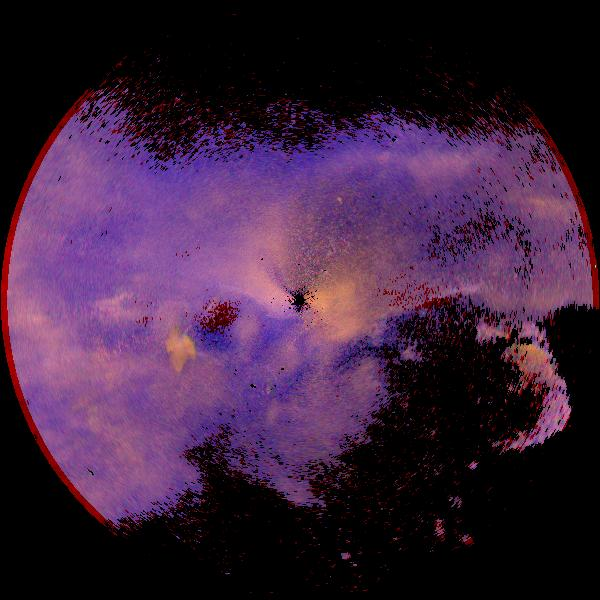roost: (111, 302, 219, 410)
